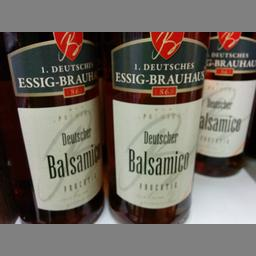vinegar: (0, 31, 104, 225), (100, 30, 206, 220), (194, 28, 255, 174)
